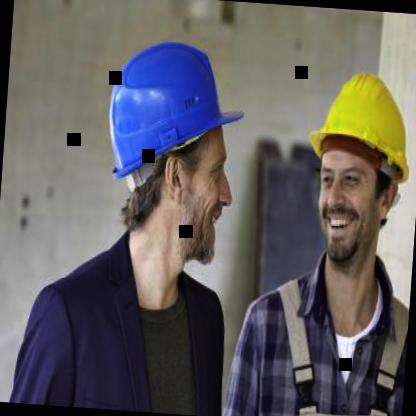helmet: (88, 7, 261, 298), (287, 38, 416, 304)
